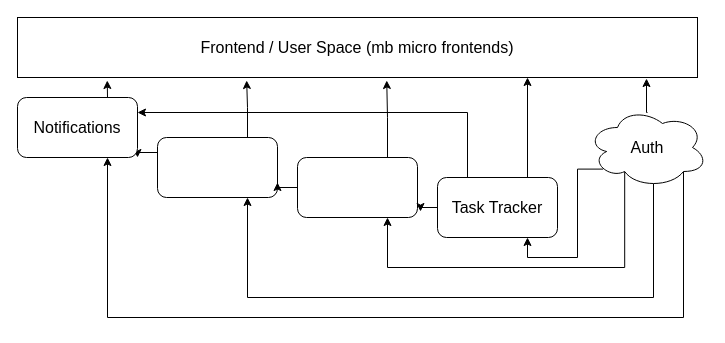
Image size: 725x343. Some labels were removed from this diagram. Each missing label, with the centre of its shape:
Accounting: the point at 217,167
Analytics: the point at 357,187
